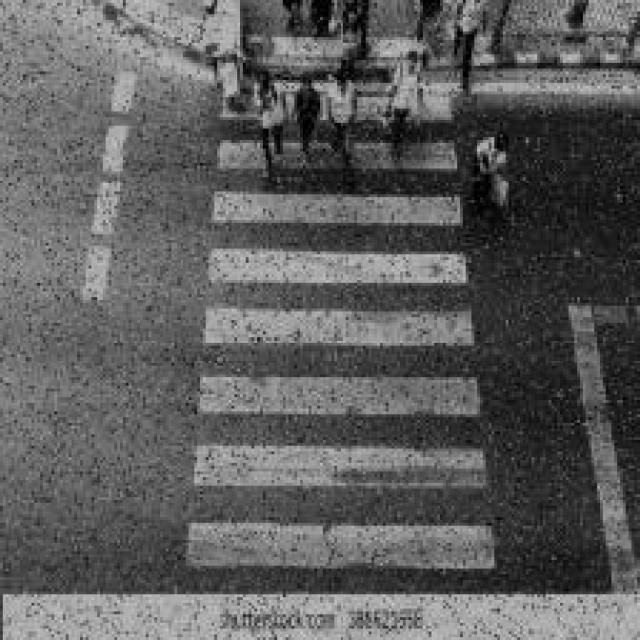crosswalk: (204, 64, 516, 580)
